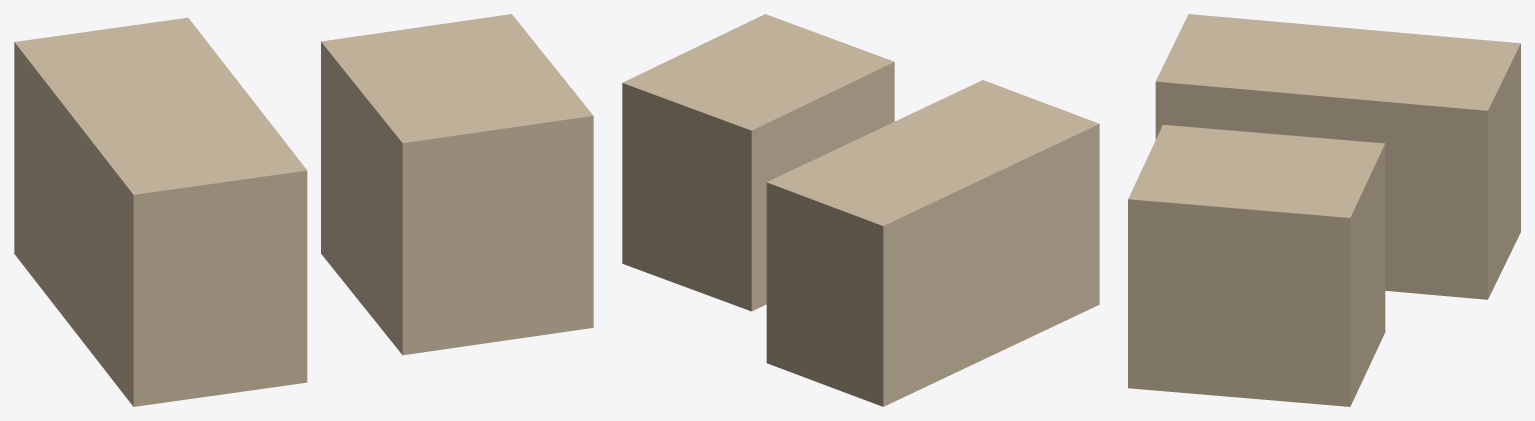
File: 15_9-estimated-coarse.glb
The picture shows the model from 3 angles, left to right: view 1: azimuth 30°, elevation 25°; view 2: azimuth 150°, elevation 25°; view 3: azimuth 270°, elevation 25°; orthographic projection. The views are drawn at different scales.
Size of the model in its own units: 27.78 by 12 by 22.6.
